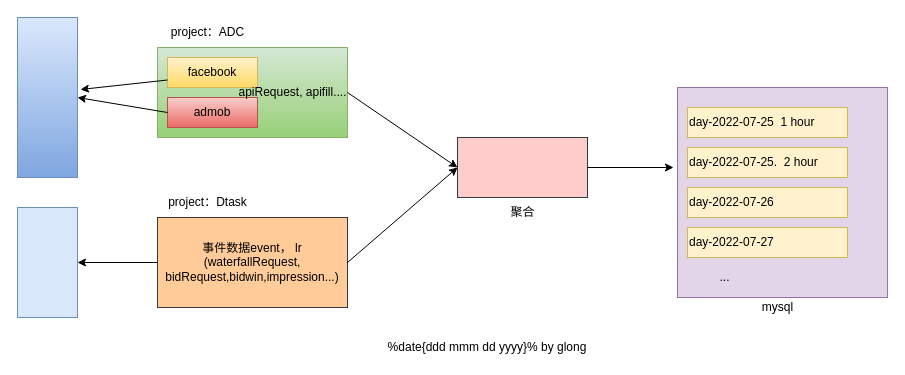
Some shapes in this 905 by 375 pixel diagram are drawn without their labels. The centre of each missing label's shape, as x and y in pixels:
shedule /hour: (x=522, y=167)
广告源statics facebook admob ...: (x=47, y=97)
日志: (x=47, y=262)
